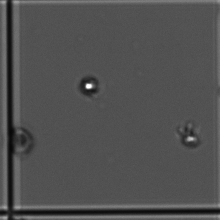Dead Cell: (10, 119, 37, 163)
Living Cell: (75, 74, 104, 97), (177, 122, 201, 149)
